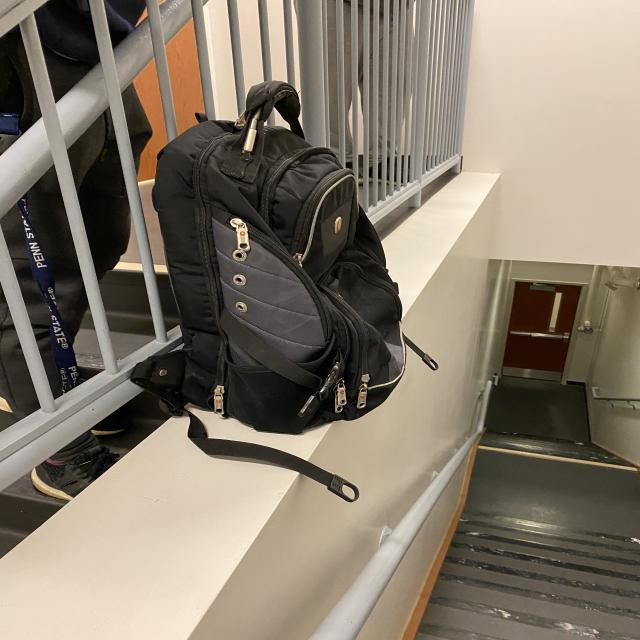Backpacks: (154, 80, 408, 433)
